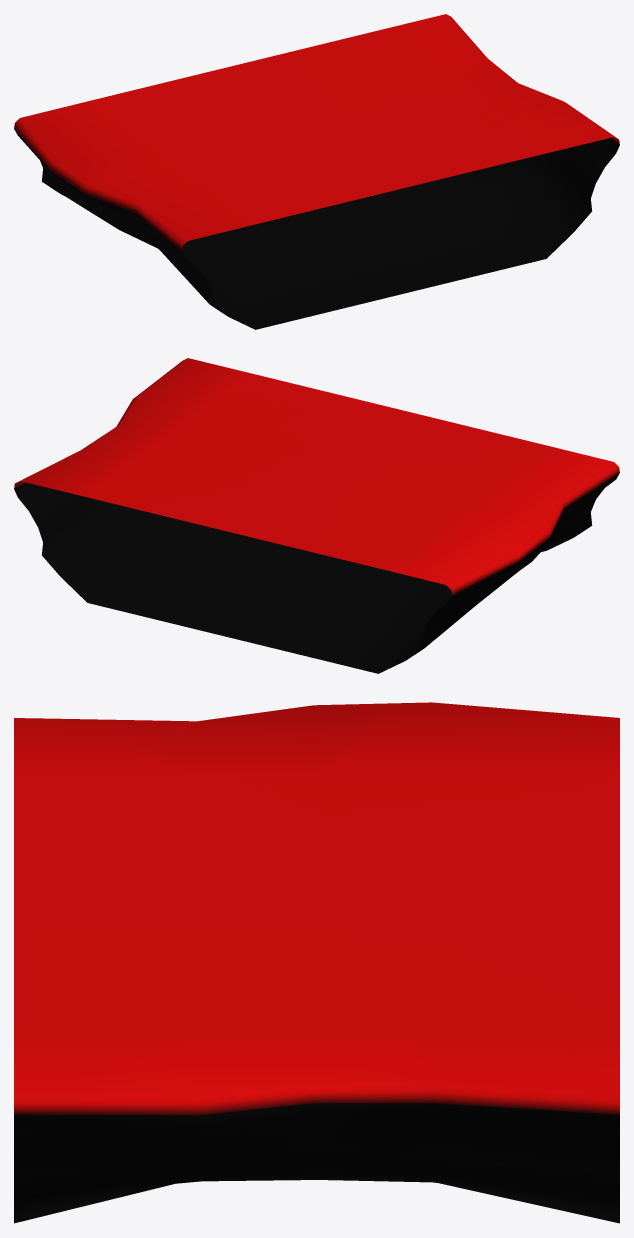
File: CrossingCliff01D 3M Background.fbx
3 views of the same model, one above another, from view 1: azimuth 30°, elevation 25°; view 2: azimuth 150°, elevation 25°; view 3: azimuth 270°, elevation 25° (orthographic). The views are drawn at different scales.
Visible parts, largest first — view 1: CrossingCliff01D 3M Background; view 2: CrossingCliff01D 3M Background; view 3: CrossingCliff01D 3M Background.
Part boxes in pixels (x1,y1,x2,y2): CrossingCliff01D 3M Background: (14, 14, 619, 329); CrossingCliff01D 3M Background: (14, 358, 619, 673); CrossingCliff01D 3M Background: (14, 702, 619, 1223).
Size of the model in its own units: 3.12 by 0.693 by 2.
